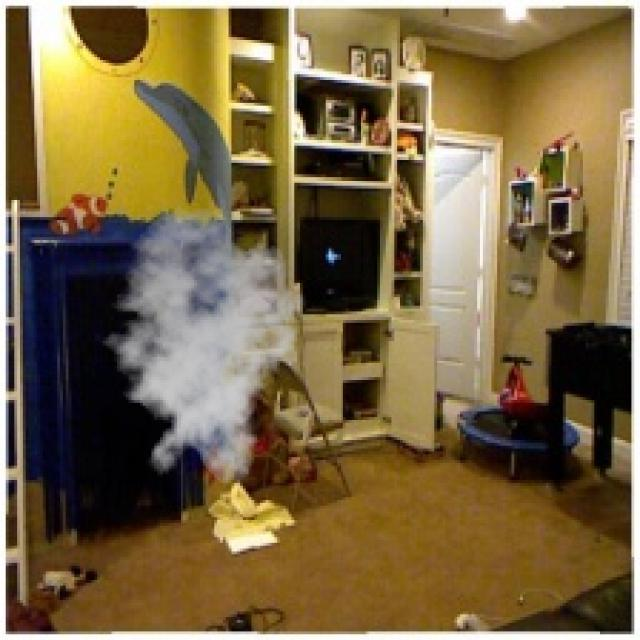smoke: (91, 205, 312, 486)
